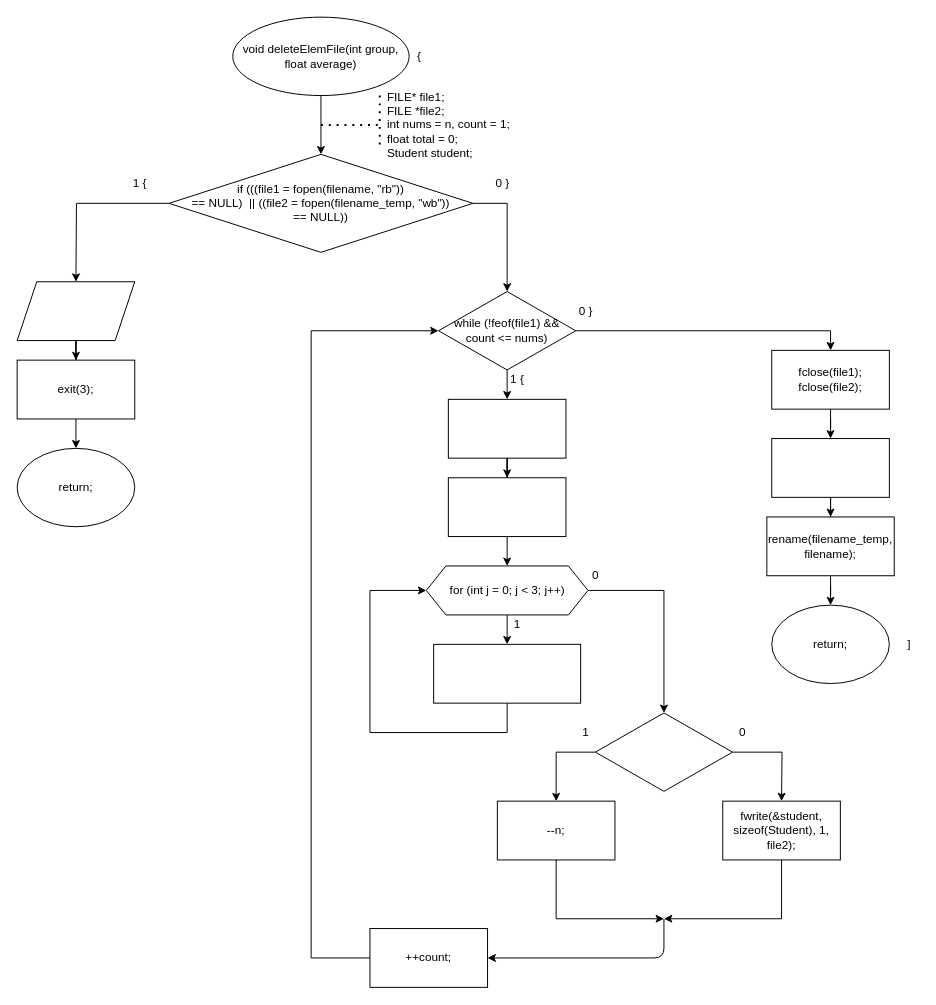
Image size: 936x1005. Some labels were removed from this diagram. The shapes that lost their labels are listed below. From the top down, each one's box as (x1, y1, x2, y2) in pixels, then its label:
(16, 281, 135, 341): cout << "Ошибка";
(447, 398, 566, 458): fread(&student, sizeof(Student), 1, file1);
(771, 438, 889, 497): remove(filename);
(447, 477, 566, 537): total = 0;
(433, 643, 581, 703): total += student.grades[j];
(594, 712, 733, 791): if (group == student.group && (total / 3 < average))
